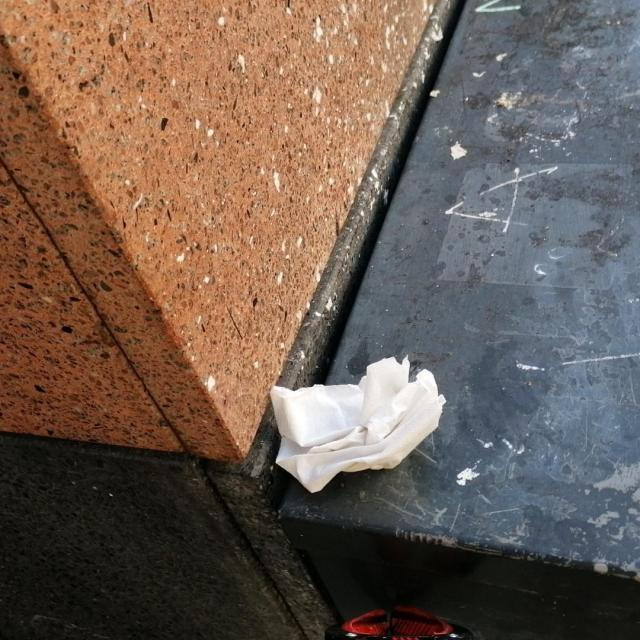Paper: (266, 353, 450, 496)
